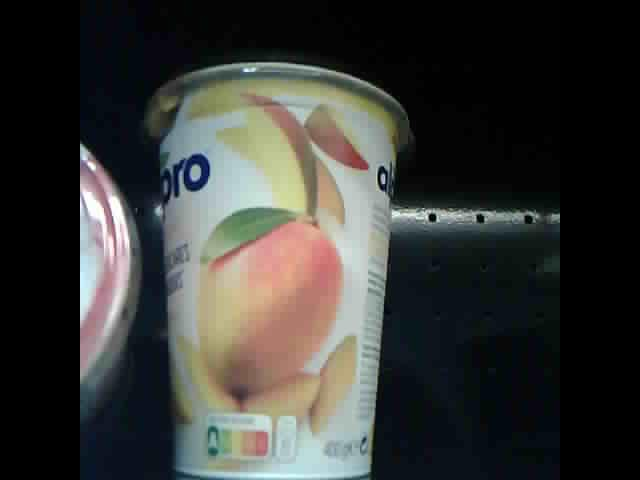alpro: (145, 59, 409, 480), (78, 132, 138, 430)
